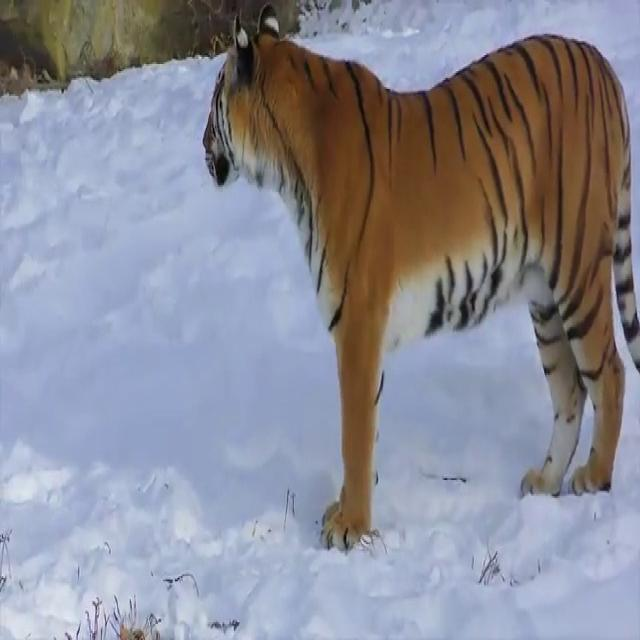tiger: (202, 0, 640, 549)
